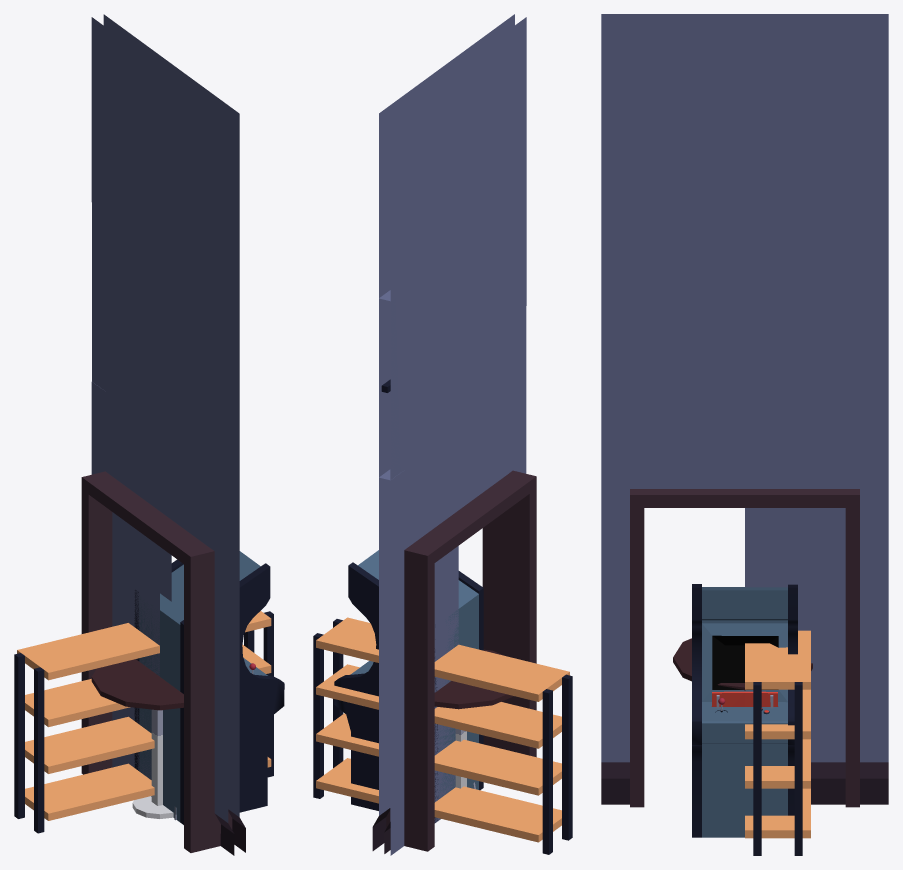
File: asset_library.glb
3 views of the same model, side by side, from view 1: azimuth 30°, elevation 25°; view 2: azimuth 150°, elevation 25°; view 3: azimuth 270°, elevation 25° (orthographic). The views are drawn at different scales.
Parts seen in each view (by area): view 1: wall segment door, doorframe-col, Cube, arcade_cabinet-col, wall segment window, table-col, Cube.001, wall segment-col; view 2: wall segment door, doorframe-col, Cube, wall segment window, wall segment-col, arcade_cabinet-col, Cube.001, table-col; view 3: wall segment door, wall segment-col, wall segment window, arcade_cabinet-col, doorframe-col, Cube, Cube.001, chair-col, table-col.
Part boxes in pixels (x1,y1,x2,y2): wall segment door: (91,15,245,855); doorframe-col: (81,471,232,852); Cube: (17,611,271,820); arcade_cabinet-col: (134,551,284,824); wall segment window: (91,16,171,779); table-col: (91,659,183,818); Cube.001: (14,611,273,833); wall segment-col: (92,14,171,601); wall segment door: (372,14,526,853); doorframe-col: (386,470,536,851); Cube: (316,617,569,842); wall segment window: (372,68,458,855); wall segment-col: (372,64,446,853); arcade_cabinet-col: (334,550,483,821); Cube.001: (313,619,572,854); table-col: (434,649,513,788); wall segment door: (601,14,888,804); wall segment-col: (745,14,888,804); wall segment window: (745,20,888,778); arcade_cabinet-col: (692,584,797,837); doorframe-col: (630,489,859,807); Cube: (745,630,810,838); Cube.001: (753,682,802,855); chair-col: (711,691,778,708); table-col: (673,638,812,690).
Size of the model in its own units: 2 by 6 by 2.
Materials: 1 (1 with a texture image).
